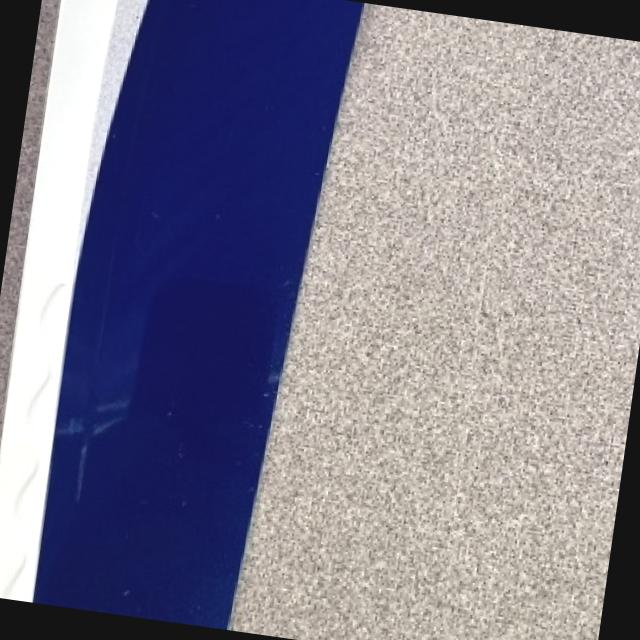healthy: (37, 0, 365, 628), (0, 5, 54, 436)
